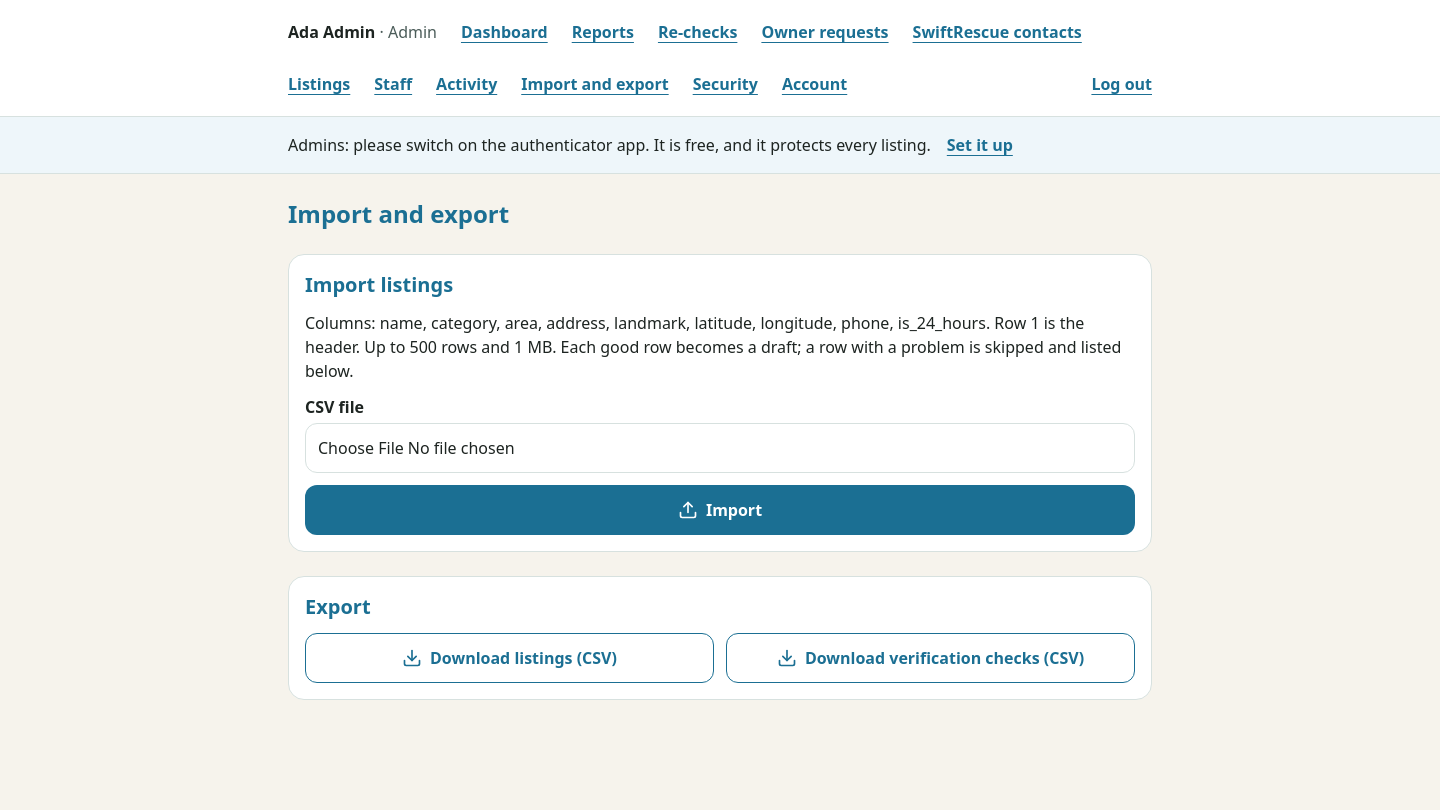
Test case: exporting › says so when a download fails, and saves nothing
This screenshot has width=1440, height=810.
What coordinates should you click on to do the following:
click the button "Download listings (CSV)"
I would click on:
 (510, 658)
Its box is [305, 633, 714, 683].
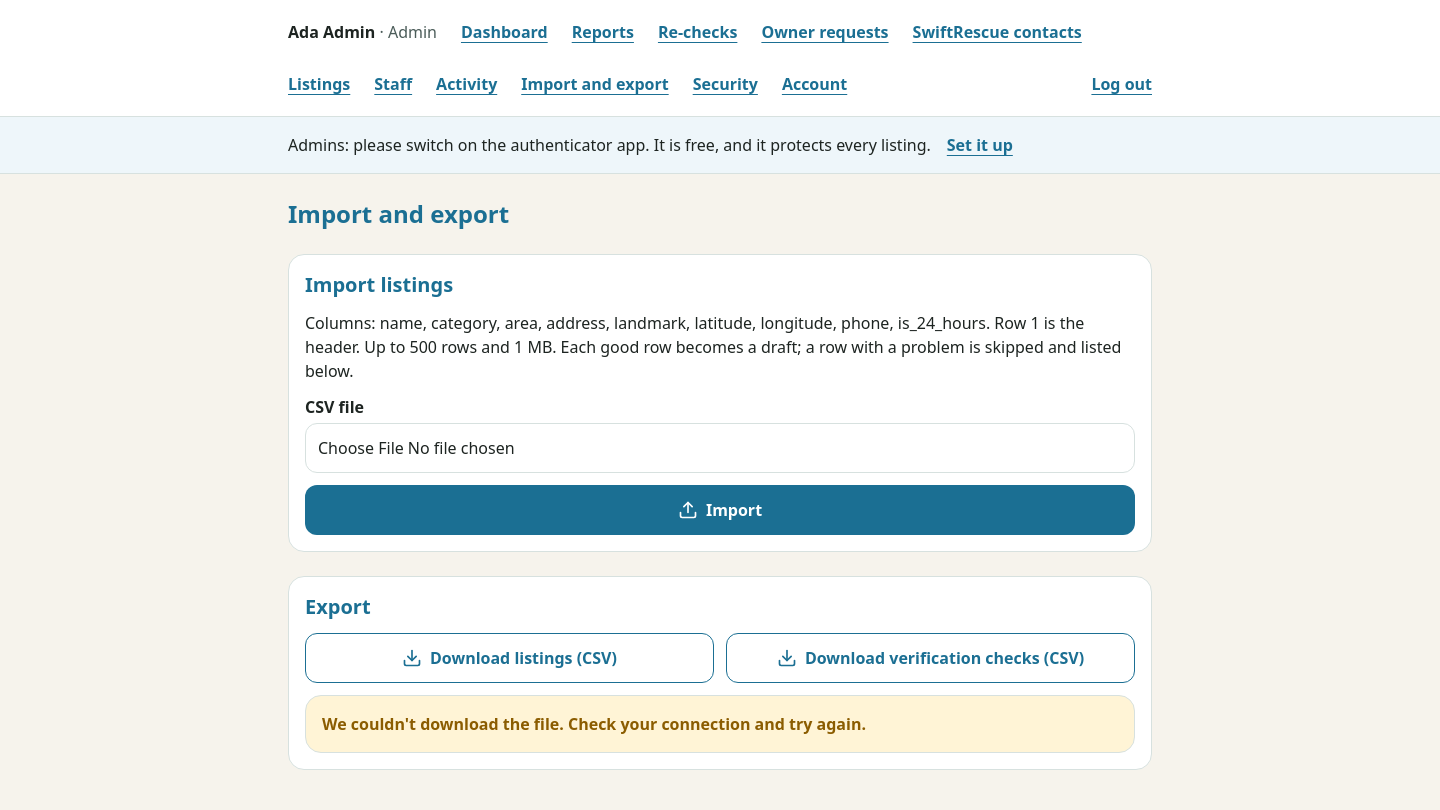
Result: the text "We couldn't download the file. Check your connection and try again." is shown at [305, 695, 1135, 753]
